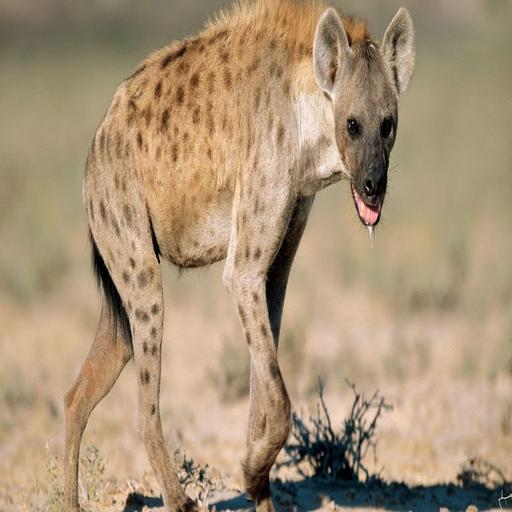Hyena: (55, 0, 420, 512)
